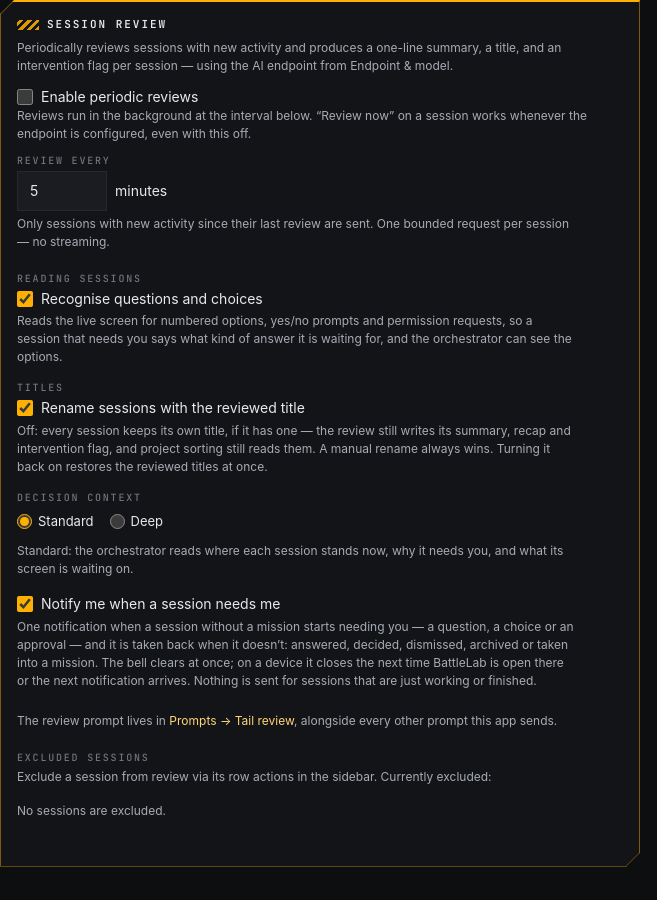
it: a rejected interval says why, and the rejected value stays visible for correction (#957)
The image size is (657, 900).
Replace the text in the number field labelled "Review every" with "999999": (62, 191) [17,171,107,211]
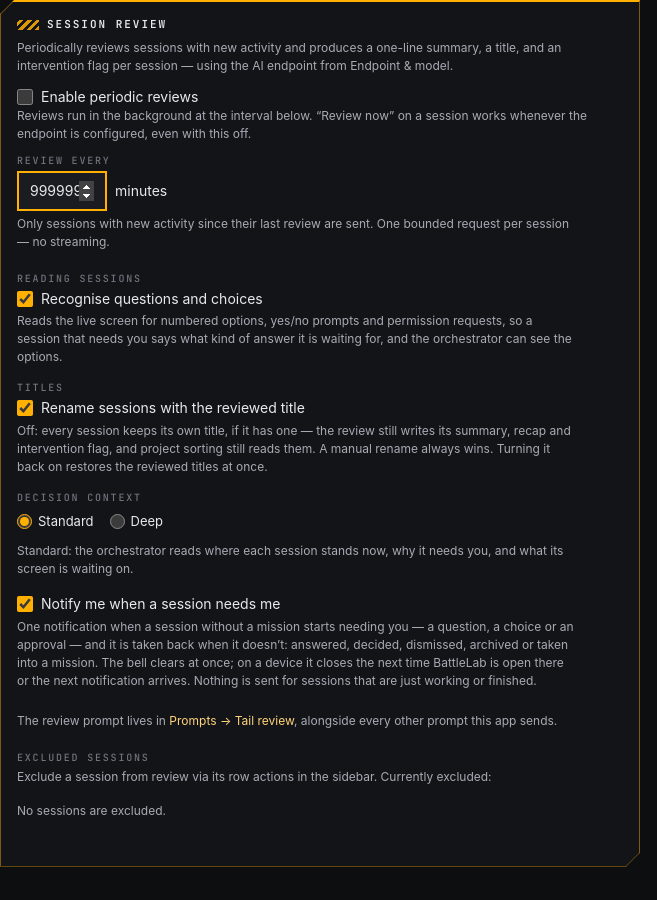
Press Tab
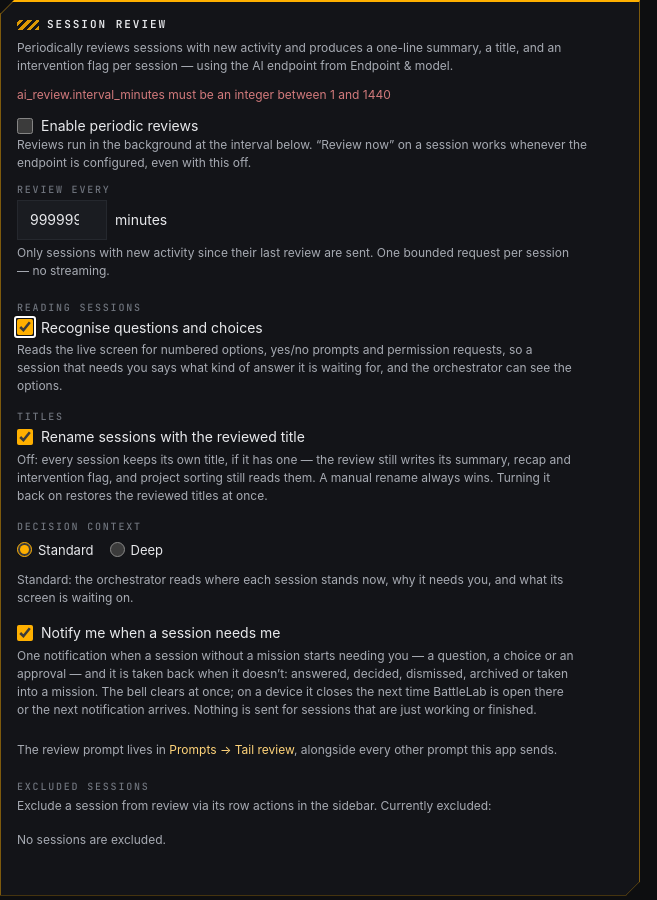
Now the message reads "ai_review.interval_minutes must be an integer between 1 and 1440", box [17,87,391,102]
